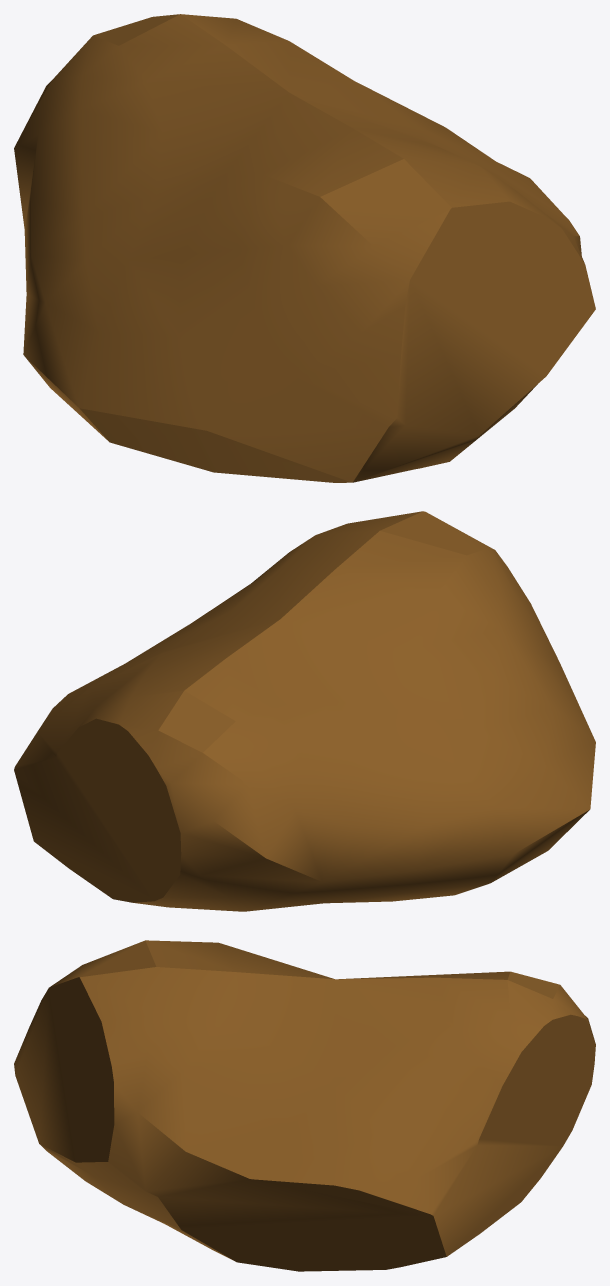
Rendered from Rock_Extra_02.fbx.
3 views of the same model, one above another, from view 1: azimuth 30°, elevation 25°; view 2: azimuth 150°, elevation 25°; view 3: azimuth 270°, elevation 25° (orthographic). The views are drawn at different scales.
Visible parts, largest first — view 1: rock.004; view 2: rock.004; view 3: rock.004.
Part boxes in pixels (left/top/right/bottom): rock.004: left=14, top=14, right=595, bottom=482; rock.004: left=14, top=511, right=595, bottom=911; rock.004: left=14, top=940, right=595, bottom=1271.
Size of the model in its own units: 79.03 by 47.92 by 96.56.
1 material, 1 textured.
